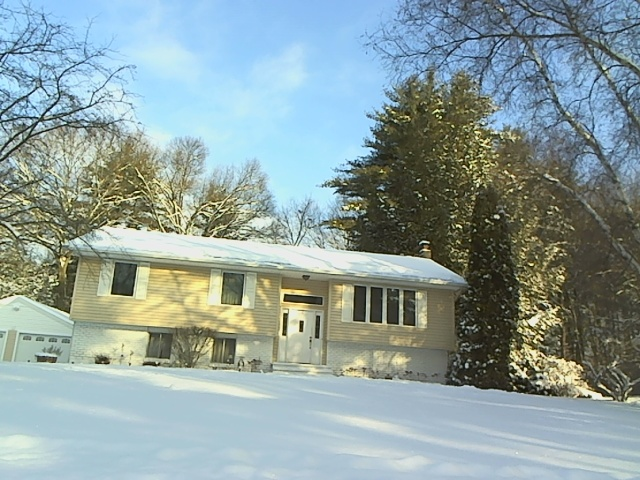Unploughed: (280, 290, 328, 428)
